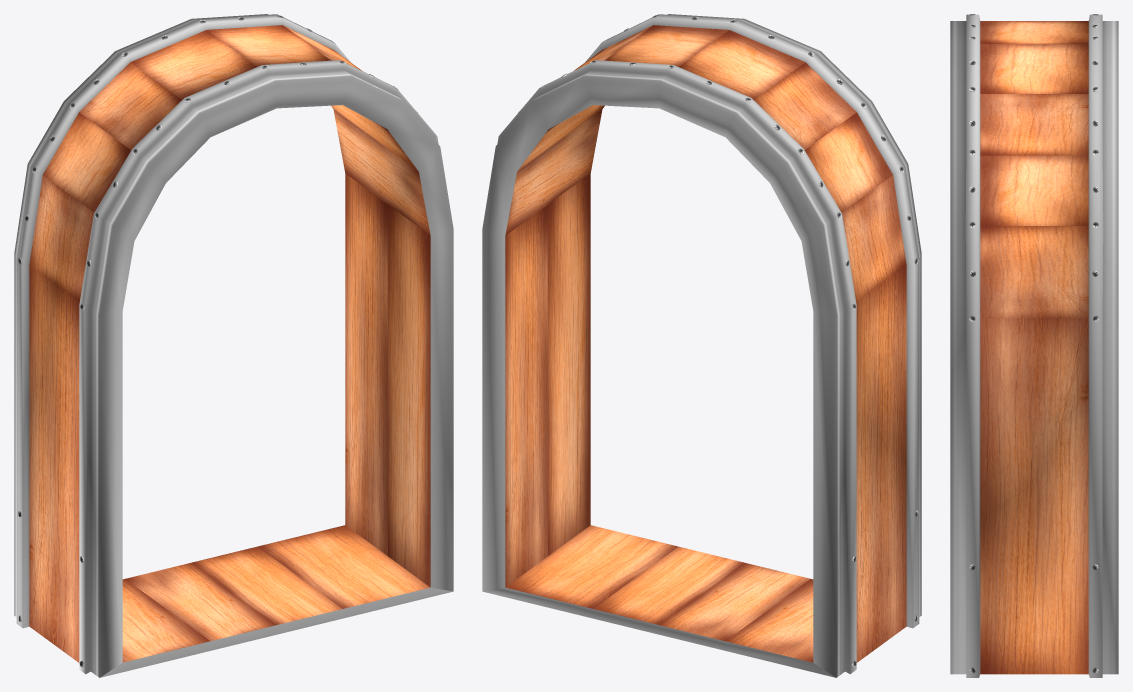
Rendered from archway_darkwood.glb.
3 views of the same model, side by side, from view 1: azimuth 30°, elevation 25°; view 2: azimuth 150°, elevation 25°; view 3: azimuth 270°, elevation 25° (orthographic).
Visible parts, largest first — view 1: Portal_Archway-DarkWood; view 2: Portal_Archway-DarkWood; view 3: Portal_Archway-DarkWood.
Boxes of the visible parts, box(x1,y1,x2,y2) form: Portal_Archway-DarkWood: box(14, 14, 453, 677); Portal_Archway-DarkWood: box(482, 14, 921, 677); Portal_Archway-DarkWood: box(950, 14, 1118, 677).
Bounding box in the file's own units: 2.75 × 4 × 1.1.
Materials: 1 (1 with a texture image).
